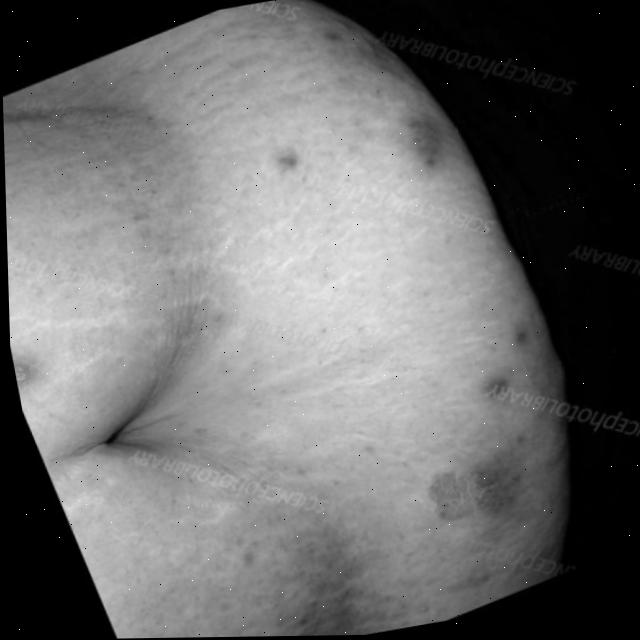Eczema: (425, 345, 565, 528), (401, 90, 435, 167), (271, 153, 290, 179)
